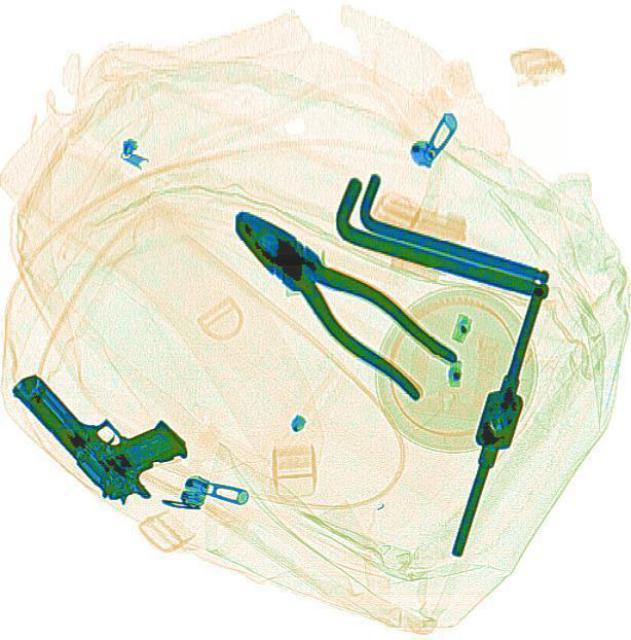Gun: (5, 328, 198, 518)
Pliers: (211, 190, 460, 404)
